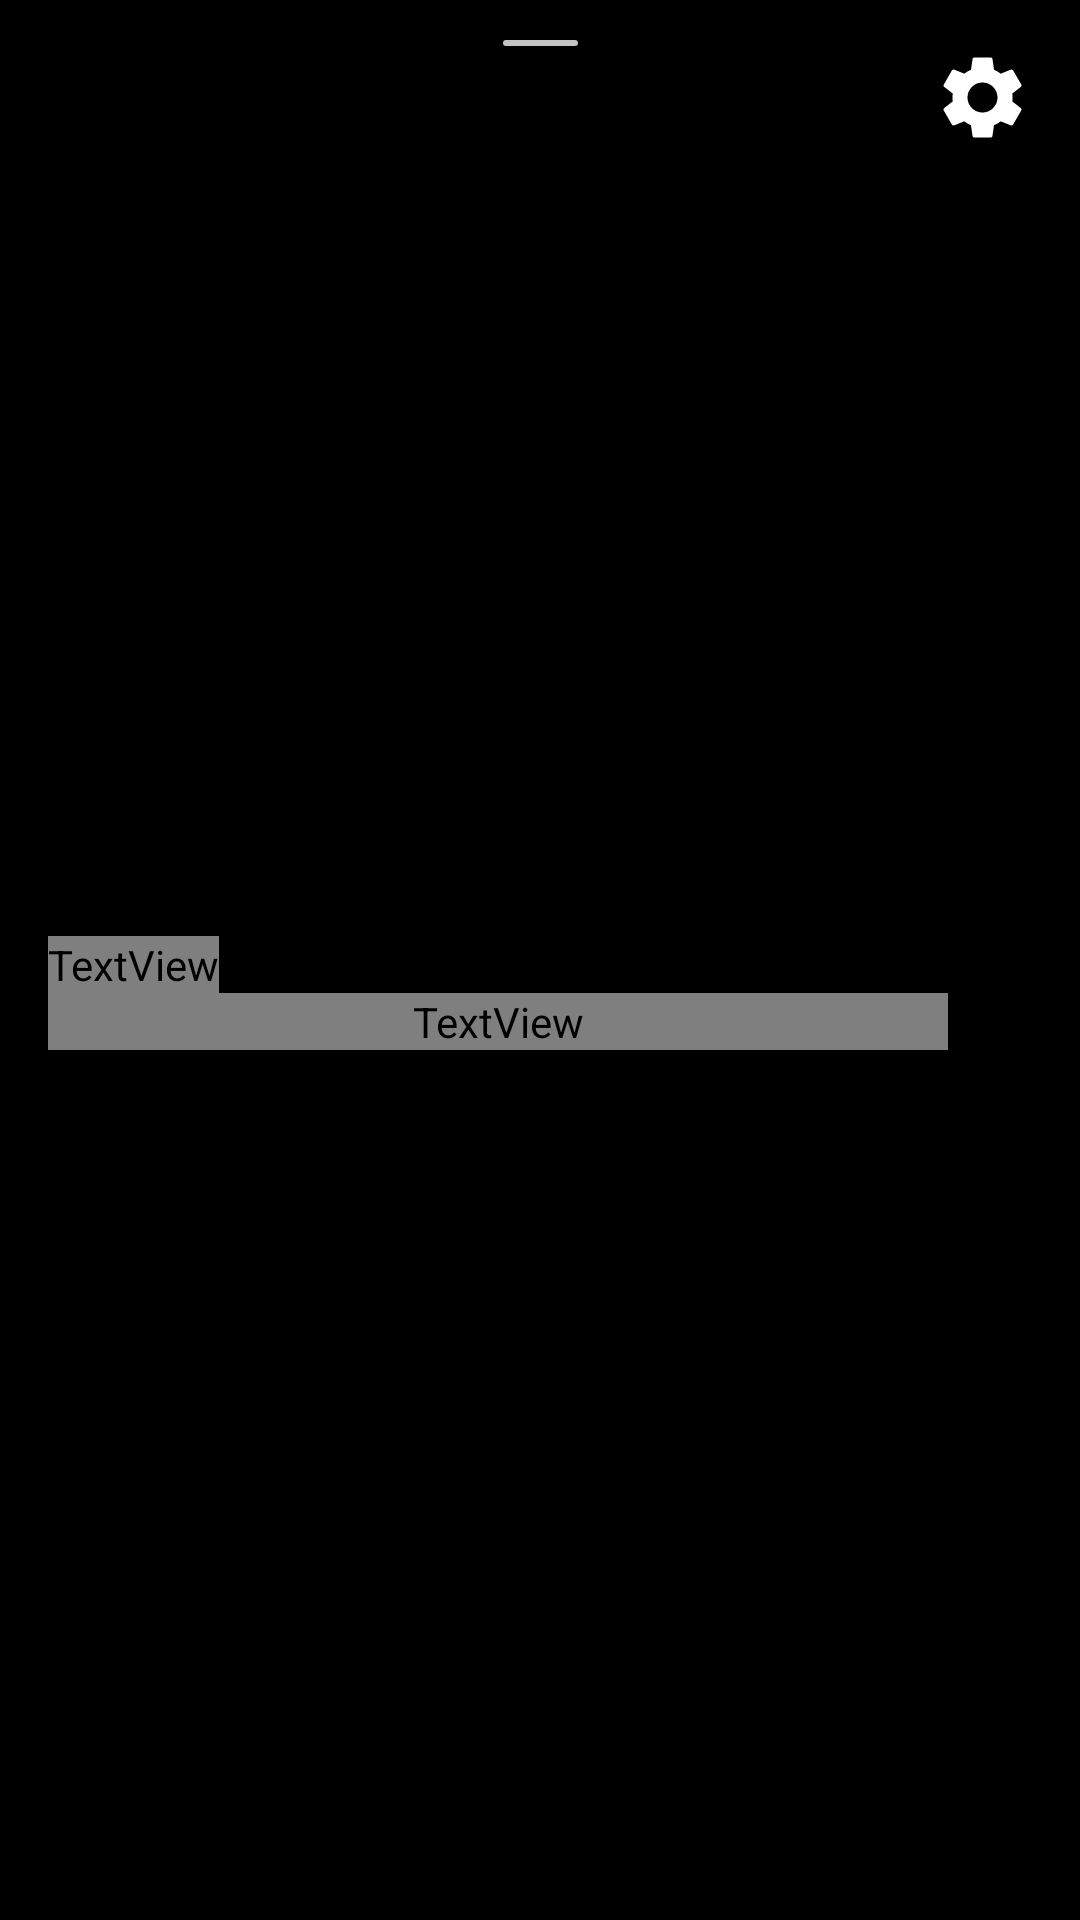

Icon bounding boxes for this 1080px×1920px phone screenshot, format (x1, y1, x2, y2):
settings: (943, 57, 1022, 138)
